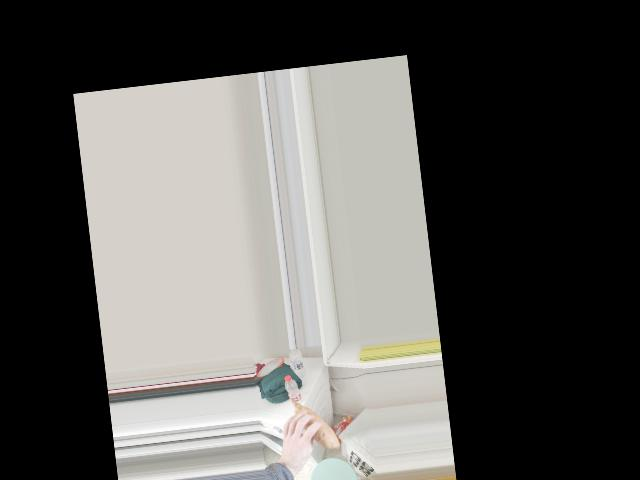sweet_potato: (282, 400, 337, 447)
